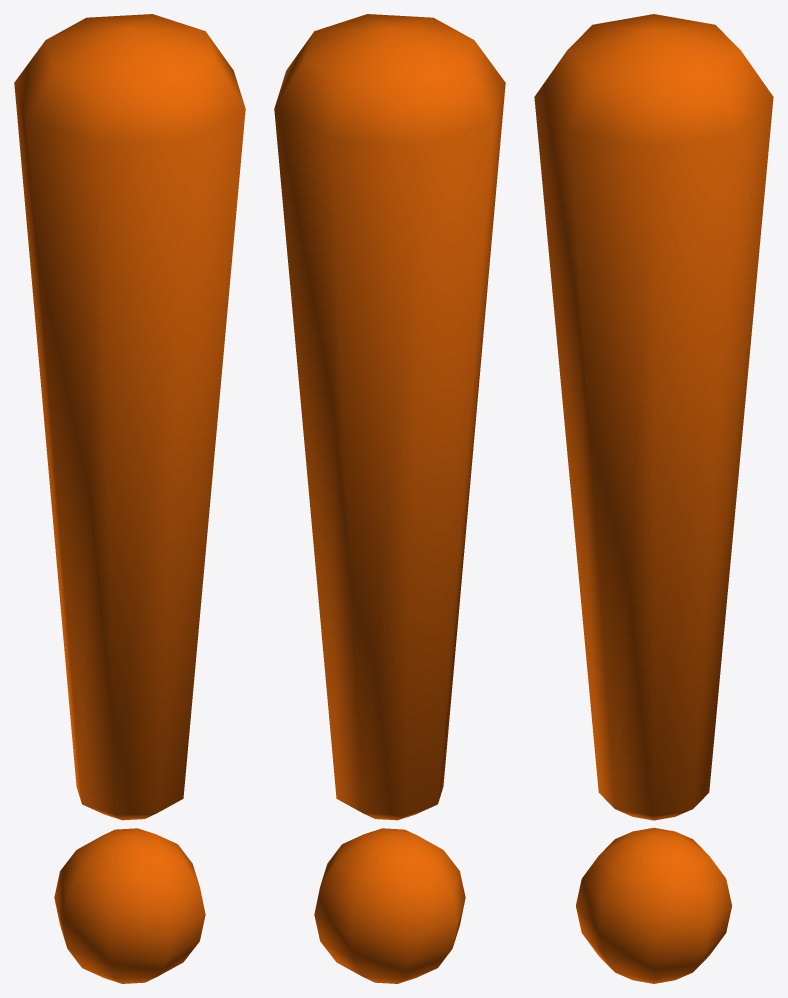
Rendered from godotAttention.glb.
3 views of the same model, side by side, from view 1: azimuth 30°, elevation 25°; view 2: azimuth 150°, elevation 25°; view 3: azimuth 270°, elevation 25° (orthographic).
Parts seen in each view (by area): view 1: Attention; view 2: Attention; view 3: Attention.
Part boxes in pixels (box(x1,y1,x2,y2)): Attention: box(14, 14, 245, 983); Attention: box(274, 14, 505, 983); Attention: box(534, 14, 773, 983).
Bounding box in the file's own units: 0.9505 × 4.15 × 0.9505.
